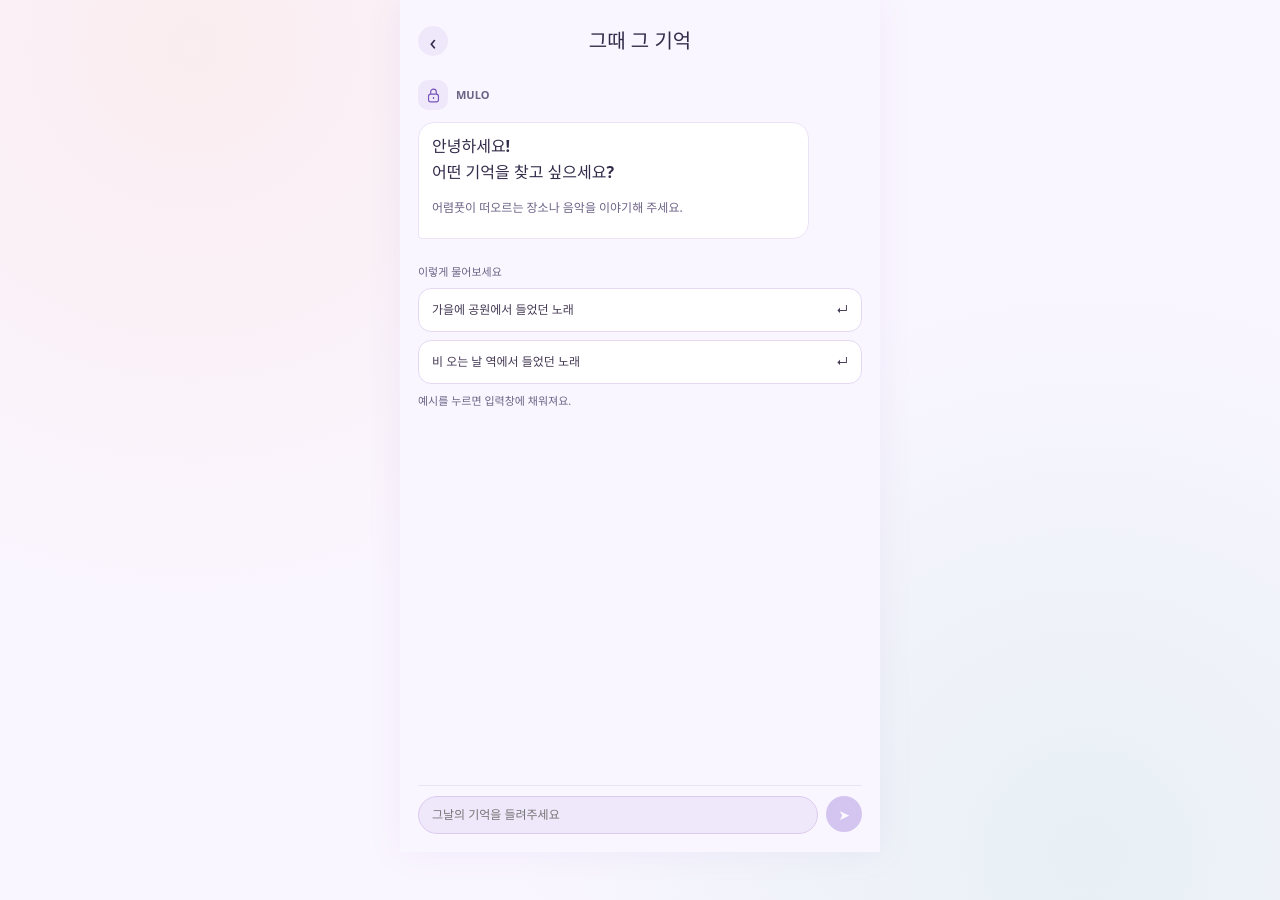
MemorySearchPage › 정확 일치가 0건이고 제안만 있으면 토글 뒤에만 제안을 표시한다
Type "가을" into the field named "기억 검색 질문" at (618, 815), box x1=418 y1=796 x2=818 y2=834
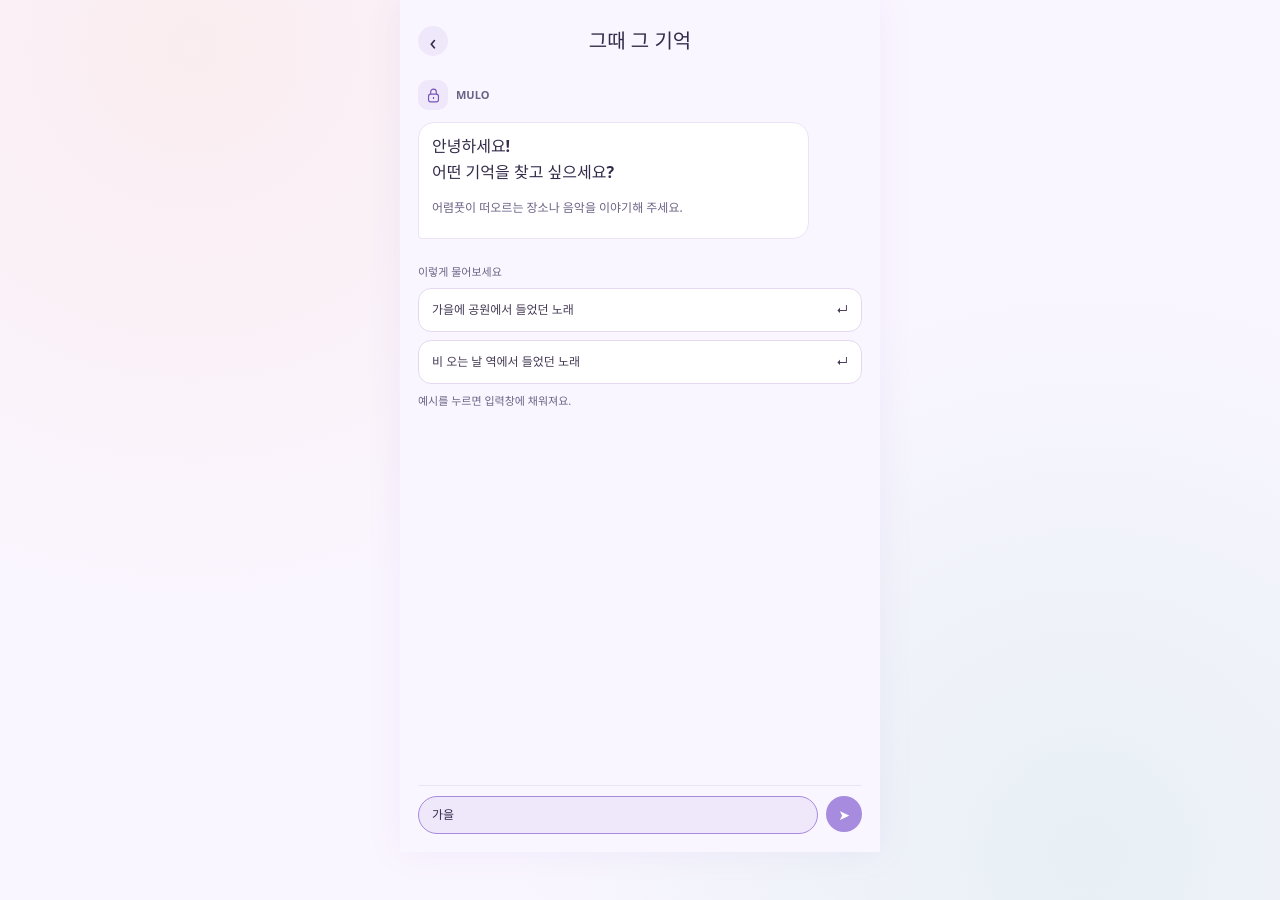
Click the button named "질문 보내기" at (844, 814), box x1=826 y1=796 x2=862 y2=832
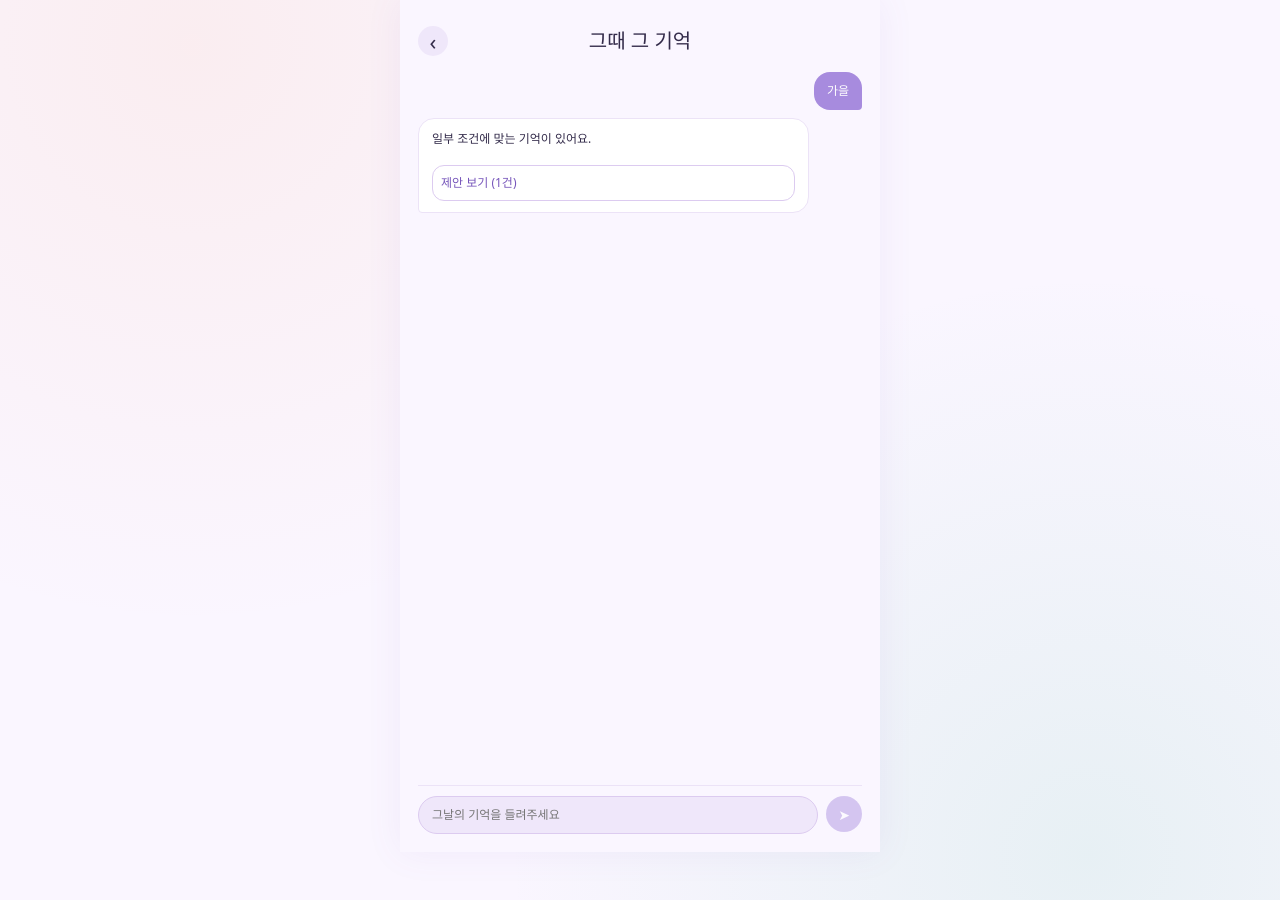
Now the text "일부 조건에 맞는 기억이 있어요." is shown, box x1=432 y1=130 x2=591 y2=147
Click the button "제안 보기 (1건)" at (479, 182), box x1=432 y1=165 x2=795 y2=201
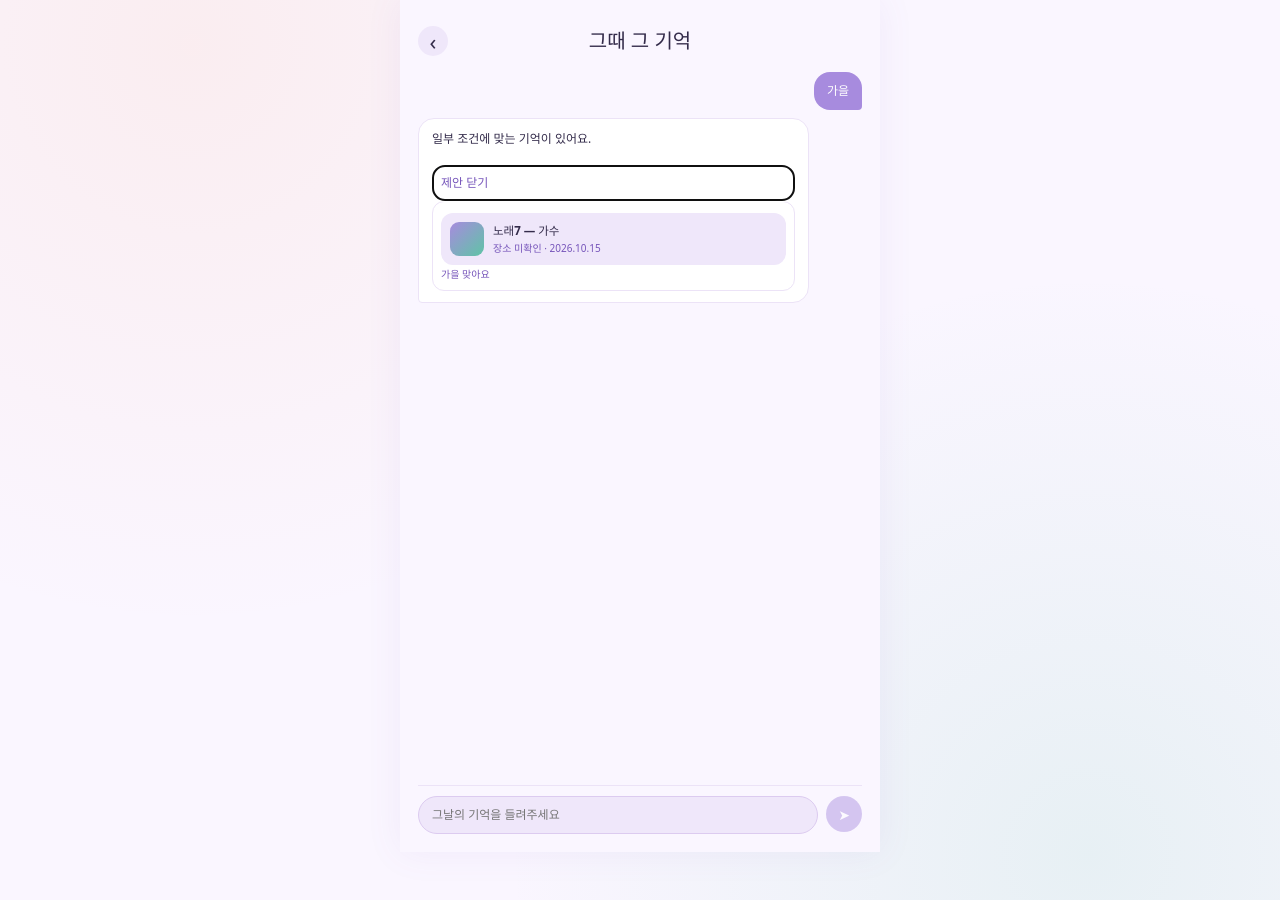
Now the button with aria-label "노래7 상세보기" is shown, box x1=441 y1=213 x2=786 y2=265
